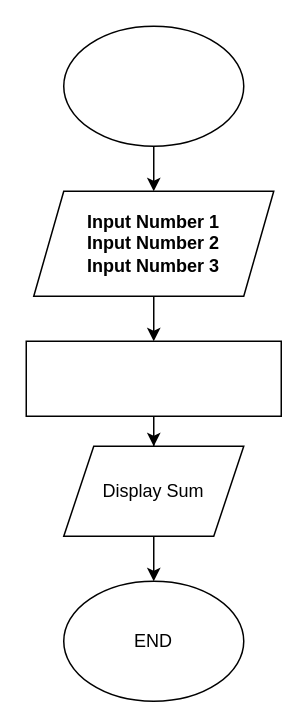
This 308x728 diagram has some shape labels left out. Here are the shapes that lost their labels. From the top down, the centre of each, then its label:
At (x=153, y=85): "START".
At (x=153, y=378): "Sum = Number1 + Number2 + Number3".
